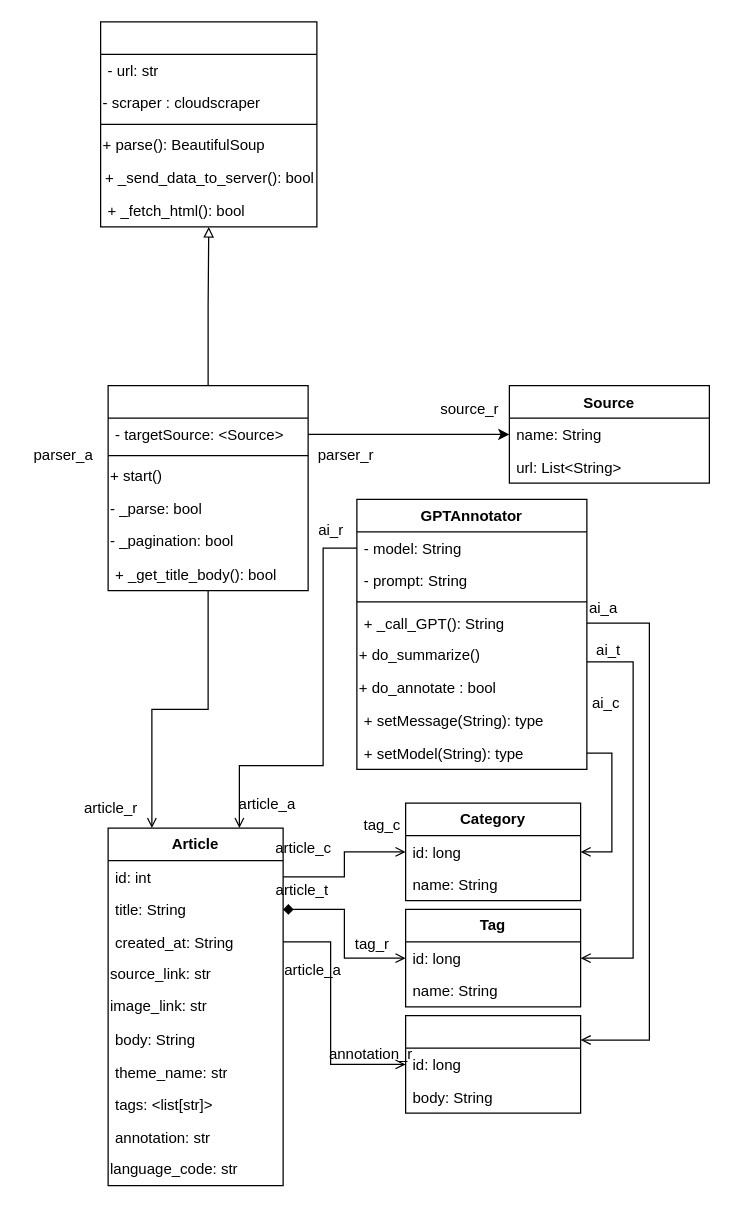
Image size: 731x1208. Some labels were removed from this diagram. Here are the shapes that lost their labels. From the top down, the box of each, then its label:
(99, 21, 317, 227): BaseParser
(107, 384, 308, 591): Parser
(404, 1014, 581, 1113): Annotations
